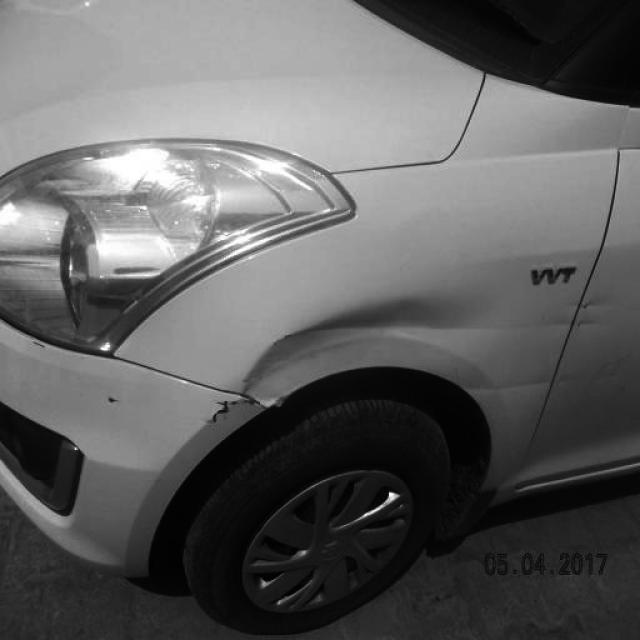car damage: (238, 294, 463, 408), (452, 299, 607, 334), (465, 368, 575, 399), (201, 394, 258, 433)
